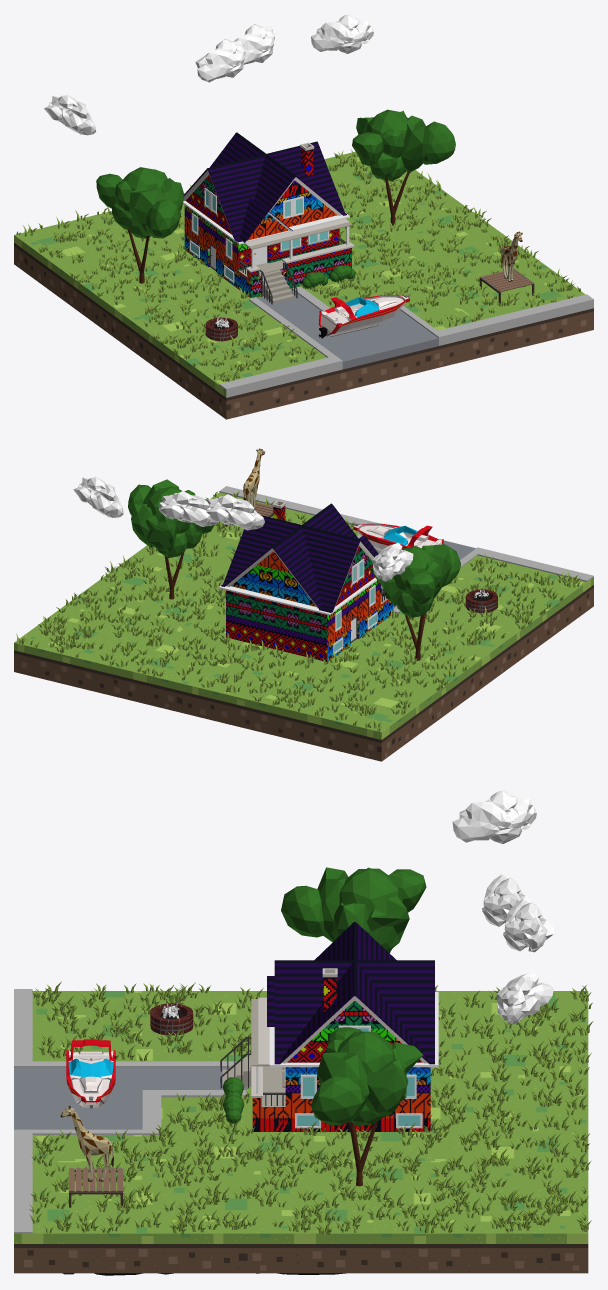
3 views of the same model, one above another, from view 1: azimuth 30°, elevation 25°; view 2: azimuth 150°, elevation 25°; view 3: azimuth 270°, elevation 25° (orthographic). The views are drawn at different scales.
Parts seen in each view (by area): view 1: Cube.006, Cube.966, Circle.012_Grass_0.192, Cube.007, tree, tree.001, VEHICLES_BOAT, Cube.009, OBJRANDOM_CAMPFIRE, ANIMAL_JIRAFA; view 2: Cube.006, Cube.966, Circle.012_Grass_0.192, Cube.007, tree.001, tree, VEHICLES_BOAT, OBJRANDOM_CAMPFIRE, ANIMAL_JIRAFA; view 3: Cube.006, Circle.012_Grass_0.192, Cube.966, tree, Cube.007, tree.001, VEHICLES_BOAT, Cube.009, ANIMAL_JIRAFA, OBJRANDOM_CAMPFIRE.
Part boxes in pixels (x1,y1,x2,y2): Cube.006: (14, 151, 593, 419); Cube.966: (183, 132, 354, 304); Circle.012_Grass_0.192: (16, 149, 580, 381); Cube.007: (44, 14, 373, 135); tree: (352, 109, 455, 225); tree.001: (96, 167, 184, 283); VEHICLES_BOAT: (318, 294, 409, 338); Cube.009: (479, 268, 534, 303); OBJRANDOM_CAMPFIRE: (205, 316, 237, 341); ANIMAL_JIRAFA: (501, 231, 522, 281); Cube.006: (14, 486, 593, 761); Cube.966: (218, 500, 393, 661); Circle.012_Grass_0.192: (16, 491, 580, 731); Cube.007: (73, 476, 413, 581); tree.001: (370, 544, 460, 660); tree: (128, 479, 214, 599); VEHICLES_BOAT: (353, 523, 443, 550); OBJRANDOM_CAMPFIRE: (465, 588, 497, 613); ANIMAL_JIRAFA: (243, 448, 265, 509); Cube.006: (14, 989, 588, 1273); Circle.012_Grass_0.192: (29, 981, 593, 1234); Cube.966: (220, 922, 438, 1131); tree: (311, 1027, 423, 1186); Cube.007: (452, 790, 553, 1024); tree.001: (281, 867, 426, 953); VEHICLES_BOAT: (66, 1039, 115, 1108); Cube.009: (69, 1167, 122, 1207); ANIMAL_JIRAFA: (60, 1106, 113, 1181); OBJRANDOM_CAMPFIRE: (150, 1001, 193, 1035).
Size of the model in its own units: 4071 by 2149 by 4040.
39 materials, 7 textured.
